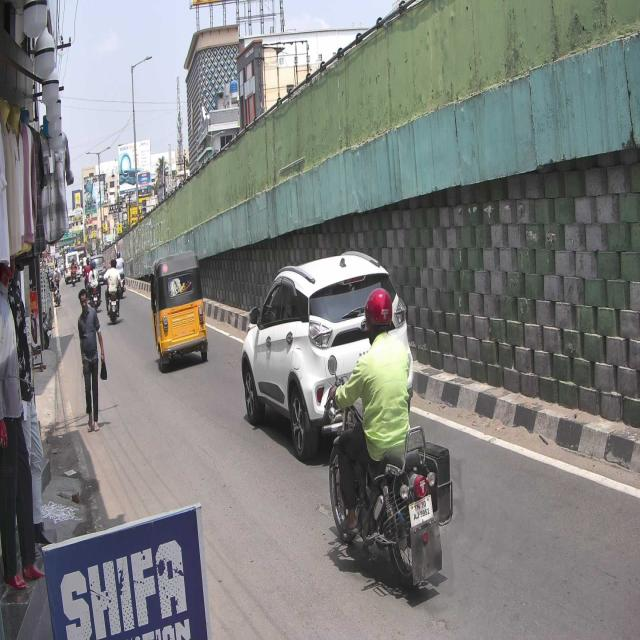single_rider: (324, 284, 456, 602)
